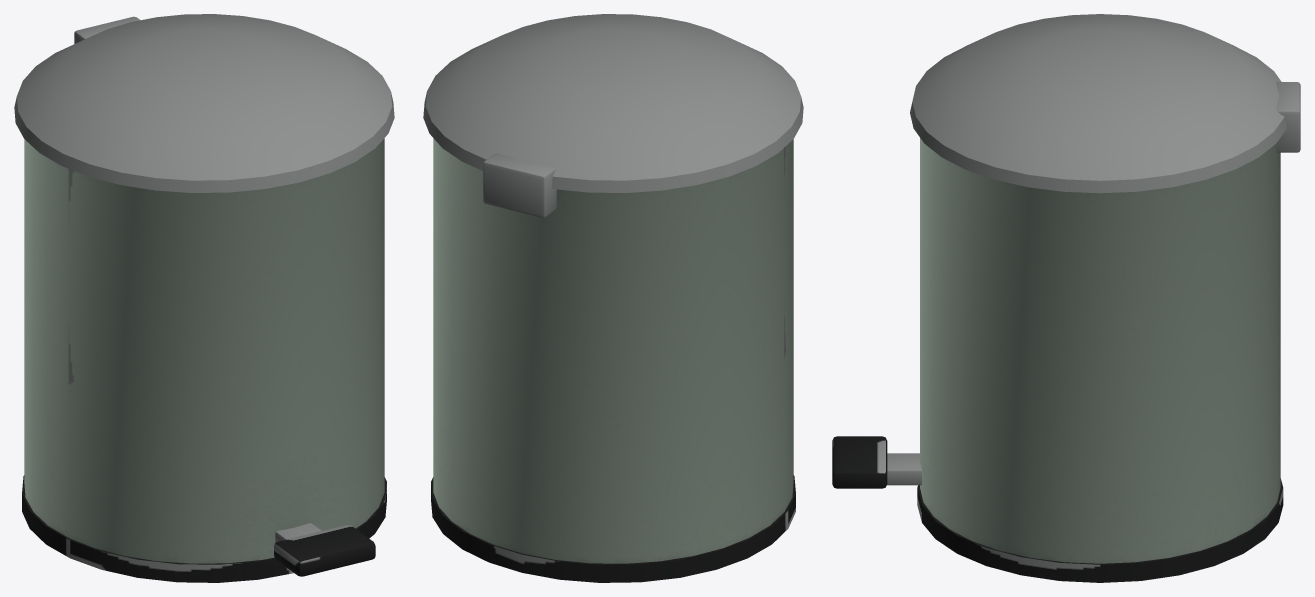
Rendered from CTCC_PROP_PedalBinWorking.fbx.
3 views of the same model, side by side, from view 1: azimuth 30°, elevation 25°; view 2: azimuth 150°, elevation 25°; view 3: azimuth 270°, elevation 25° (orthographic).
Parts seen in each view (by area): view 1: BinShell, BinLid, BinPedal, BinHinge; view 2: BinShell, BinLid, BinHinge; view 3: BinShell, BinLid, BinPedal, BinHinge.
Part boxes in pixels (x1,y1,x2,y2): BinShell: (22,138,386,582); BinLid: (14,14,394,192); BinPedal: (274,523,375,576); BinHinge: (74,16,140,43); BinShell: (431,138,795,582); BinLid: (423,14,803,192); BinHinge: (483,153,556,217); BinShell: (917,138,1283,582); BinLid: (910,14,1286,193); BinPedal: (832,436,921,488); BinHinge: (1276,82,1300,152).
Bounding box in the file's own units: 0.304 × 0.398 × 0.374.
